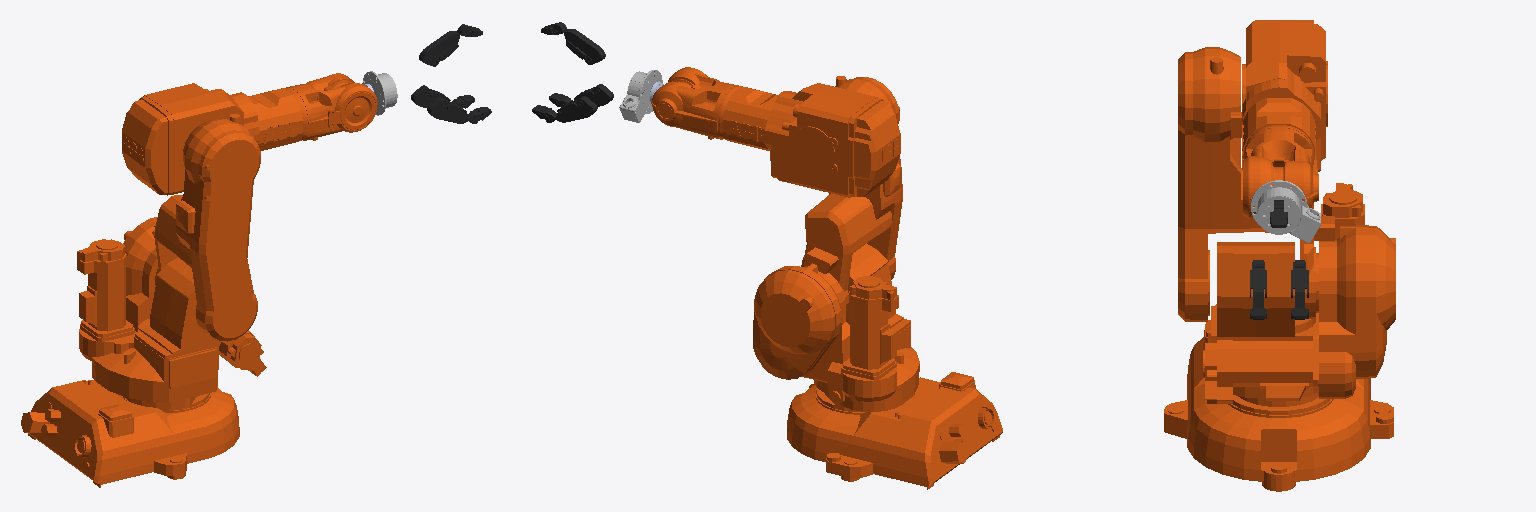
--- Render facts (derived) ---
3 views of the same robot in one strip: view 1: azimuth 30°, elevation 25°; view 2: azimuth 150°, elevation 25°; view 3: azimuth 270°, elevation 25° (orthographic).
Model IRB140 with 21 links and 20 joints (15 revolute, 5 fixed), rooted at base_link, posed every joint at zero.
Links seen in each view (by area): view 1: link_1, link_2, base_link, link_3, link_4, ATI_sensor, finger_middle_link_1, finger_2_link_1; view 2: link_1, base_link, link_3, link_2, link_4, ATI_sensor, finger_middle_link_1, finger_1_link_1; view 3: link_1, base_link, link_2, link_3, link_4, ATI_sensor, finger_1_link_1, finger_2_link_1.
Link boxes in pixels (box(x1,y1,x2,y2)): link_1: box(77, 217, 266, 410); link_2: box(152, 114, 260, 341); base_link: box(21, 380, 239, 487); link_3: box(122, 83, 302, 195); link_4: box(285, 73, 377, 140); ATI_sensor: box(362, 71, 397, 115); finger_middle_link_1: box(419, 31, 460, 66); finger_2_link_1: box(427, 97, 468, 123); link_1: box(753, 243, 919, 411); base_link: box(787, 372, 1002, 489); link_3: box(723, 83, 900, 197); link_2: box(801, 76, 902, 309); link_4: box(651, 67, 741, 139); ATI_sensor: box(619, 70, 662, 122); finger_middle_link_1: box(564, 29, 605, 64); finger_1_link_1: box(555, 96, 597, 122); link_1: box(1203, 183, 1395, 414); base_link: box(1164, 320, 1393, 491); link_2: box(1178, 47, 1334, 321); link_3: box(1231, 20, 1327, 171); link_4: box(1242, 125, 1318, 218); ATI_sensor: box(1251, 180, 1321, 242); finger_1_link_1: box(1291, 260, 1308, 307); finger_2_link_1: box(1250, 260, 1266, 307).
Size in the robot's own frame: 1.11 by 0.4054 by 0.8227 metres.
14 mesh visuals loaded from 13 distinct referenced files (10 binary STL); not drawn: 7 (reference not matched to a file when rendering).

robot.urdf — IRB140:
<?xml version="1.0" ?>
<!-- =================================================================================== -->
<!-- |    This document was autogenerated by xacro from irb_140_robotiq_simple_ati.xacro | -->
<!-- |    EDITING THIS FILE BY HAND IS NOT RECOMMENDED                                 | -->
<!-- =================================================================================== -->
<robot name="IRB140" xmlns:xacro="http://ros.org/wiki/xacro">
  <link name="finger_1_link_0">
    <visual>
      <origin rpy="0 0 0" xyz="0.020 0 0"/>
      <geometry>
        <mesh filename="package://Atlas/urdf/meshes/s-model_articulated/visual/link_0.STL"/>
      </geometry>
      <material name="black">
        <color rgba=".2 .2 .2 1"/>
      </material>
    </visual>
    <inertial>
      <origin rpy="0 0 0" xyz="0 0 0"/>
      <mass value="0.05"/>
      <inertia ixx="0.01" ixy="-0.00002" ixz="0.00001" iyy="0.0008" iyz="0" izz="0.001"/>
    </inertial>
  </link>
  <link name="finger_1_link_1">
    <visual>
      <origin rpy="0 0 -0.52" xyz="0.050 -.028 0"/>
      <geometry>
        <mesh filename="package://Atlas/urdf/meshes/s-model_articulated/visual/link_1.STL"/>
      </geometry>
      <material name="black"/>
    </visual>
    <collision>
      <origin rpy="0 0 -0.52" xyz="0.03 -0.0145 0"/>
      <geometry>
        <box size=".028 .01 .03"/>
      </geometry>
      <material name="yellow">
        <color rgba="0 1 1 1"/>
      </material>
    </collision>
    <inertial>
      <origin rpy="0 0 0" xyz="0 0 0"/>
      <mass value="0.15"/>
      <inertia ixx="0.001859" ixy="-0.000376" ixz="0.000028" iyy="0.012756" iyz="0" izz="0.0024"/>
    </inertial>
  </link>
  <link name="finger_1_link_2">
    <!--
			NOTE: This link has an offset in the z-direction based on the models that were
			used to generate grap-it poses.  With the offset below the model appears visually
			correct, but it is suspect.
			-->
    <visual>
      <origin rpy="0 0 0" xyz="0.039 0 0.0075"/>
      <geometry>
        <mesh filename="package://Atlas/urdf/meshes/s-model_articulated/visual/link_2.STL"/>
      </geometry>
      <material name="black"/>
    </visual>
    <collision>
      <origin rpy="0 0 0" xyz="0.02 0.0025 -0.0005"/>
      <geometry>
        <box size=".018 .01 .03"/>
      </geometry>
      <material name="yellow"/>
    </collision>
    <inertial>
      <origin rpy="0 0 0" xyz="0 0 0"/>
      <mass value="0.15"/>
      <inertia ixx="0.001859" ixy="-0.000376" ixz="0.000028" iyy="0.012756" iyz="0" izz="0.0024"/>
    </inertial>
  </link>
  <link name="finger_1_link_3">
    <visual>
      <origin rpy="0 0 0.52" xyz="0 0 0"/>
      <geometry>
        <mesh filename="package://Atlas/urdf/meshes/s-model_articulated/visual/link_3.STL"/>
      </geometry>
      <material name="black"/>
    </visual>
    <collision>
      <origin rpy="0 0 .52" xyz="0.02 0.015 0"/>
      <geometry>
        <box size=".025 .01 .03"/>
      </geometry>
      <material name="yellow"/>
    </collision>
    <inertial>
      <origin rpy="0 0 0" xyz="0 0 0"/>
      <mass value="0.05"/>
      <inertia ixx="0.001239" ixy="-0.000251" ixz="0.000019" iyy="0.00085" iyz="0" izz="0.001632"/>
    </inertial>
  </link>
  <joint name="finger_1_joint_0" type="revolute">
    <parent link="finger_1_link_0"/>
    <child link="finger_1_link_1"/>
    <axis xyz="0 0 1"/>
    <origin rpy="0 0 0" xyz="0.020 0 0"/>
    <limit effort="100" lower="0" upper="1.055" velocity="100"/>
  </joint>
  <joint name="finger_1_joint_1" type="revolute">
    <parent link="finger_1_link_1"/>
    <child link="finger_1_link_2"/>
    <axis xyz="0 0 1"/>
    <origin rpy="0 0 -0.52" xyz="0.050 -.028 0"/>
    <limit effort="100" lower="0" upper="1.5708" velocity="100"/>
  </joint>
  <joint name="finger_1_joint_2" type="revolute">
    <parent link="finger_1_link_2"/>
    <child link="finger_1_link_3"/>
    <axis xyz="0 0 1"/>
    <origin rpy="0 0 0" xyz="0.039 0 0"/>
    <limit effort="100" lower="-0.7854" upper="3.1416" velocity="100"/>
  </joint>
  <link name="finger_2_link_0">
    <visual>
      <origin rpy="0 0 0" xyz="0.020 0 0"/>
      <geometry>
        <mesh filename="package://Atlas/urdf/meshes/s-model_articulated/visual/link_0.STL"/>
      </geometry>
      <material name="black">
        <color rgba=".2 .2 .2 1"/>
      </material>
    </visual>
    <!--<collision>	
				<origin xyz="-0.0455 0.0414 0.036" rpy="0 3.1416 -1.57"/>
				<geometry>
					<mesh filename="package://Atlas/urdf/meshes/s-model_articulated/collision/link_0.STL" />
				</geometry>
				<material name="yellow">
					<color rgba="0 1 1 1"/>
				</material>
			</collision>-->
    <inertial>
      <origin rpy="0 0 0" xyz="0 0 0"/>
      <mass value="0.05"/>
      <inertia ixx="0.01" ixy="-0.00002" ixz="0.00001" iyy="0.0008" iyz="0" izz="0.001"/>
    </inertial>
  </link>
  <link name="finger_2_link_1">
    <visual>
      <origin rpy="0 0 -0.52" xyz="0.050 -.028 0"/>
      <geometry>
        <mesh filename="package://Atlas/urdf/meshes/s-model_articulated/visual/link_1.STL"/>
      </geometry>
      <material name="black"/>
    </visual>
    <collision>
      <origin rpy="0 0 -0.52" xyz="0.03 -0.0145 0"/>
      <geometry>
        <box size=".028 .01 .03"/>
      </geometry>
      <material name="yellow"/>
    </collision>
    <inertial>
      <origin rpy="0 0 0" xyz="0 0 0"/>
      <mass value="0.15"/>
      <inertia ixx="0.001859" ixy="-0.000376" ixz="0.000028" iyy="0.012756" iyz="0" izz="0.0024"/>
    </inertial>
  </link>
  <link name="finger_2_link_2">
    <!--
			NOTE: This link has an offset in the z-direction based on the models that were
			used to generate grap-it poses.  With the offset below the model appears visually
			correct, but it is suspect.
			-->
    <visual>
      <origin rpy="0 0 0" xyz="0.039 0 0.0075"/>
      <geometry>
        <mesh filename="package://Atlas/urdf/meshes/s-model_articulated/visual/link_2.STL"/>
      </geometry>
      <material name="black"/>
    </visual>
    <collision>
      <origin rpy="0 0 0" xyz="0.02 0.0025 -0.0005"/>
      <geometry>
        <box size=".018 .01 .03"/>
      </geometry>
      <material name="yellow"/>
    </collision>
    <inertial>
      <origin rpy="0 0 0" xyz="0 0 0"/>
      <mass value="0.15"/>
      <inertia ixx="0.001859" ixy="-0.000376" ixz="0.000028" iyy="0.012756" iyz="0" izz="0.0024"/>
    </inertial>
  </link>
  <link name="finger_2_link_3">
    <visual>
      <origin rpy="0 0 0.52" xyz="0 0 0"/>
      <geometry>
        <mesh filename="package://Atlas/urdf/meshes/s-model_articulated/visual/link_3.STL"/>
      </geometry>
      <material name="black"/>
    </visual>
    <collision>
      <origin rpy="0 0 .52" xyz="0.02 0.015 0"/>
      <geometry>
        <box size=".025 .01 .03"/>
      </geometry>
      <material name="yellow"/>
    </collision>
    <inertial>
      <origin rpy="0 0 0" xyz="0 0 0"/>
      <mass value="0.05"/>
      <inertia ixx="0.001239" ixy="-0.000251" ixz="0.000019" iyy="0.00085" iyz="0" izz="0.001632"/>
    </inertial>
  </link>
  <joint name="finger_2_joint_0" type="revolute">
    <parent link="finger_2_link_0"/>
    <child link="finger_2_link_1"/>
    <axis xyz="0 0 1"/>
    <origin rpy="0 0 0" xyz="0.020 0 0"/>
    <limit effort="100" lower="0" upper="1.055" velocity="100"/>
  </joint>
  <joint name="finger_2_joint_1" type="revolute">
    <parent link="finger_2_link_1"/>
    <child link="finger_2_link_2"/>
    <axis xyz="0 0 1"/>
    <origin rpy="0 0 -0.52" xyz="0.050 -.028 0"/>
    <limit effort="100" lower="0" upper="1.5708" velocity="100"/>
  </joint>
  <joint name="finger_2_joint_2" type="revolute">
    <parent link="finger_2_link_2"/>
    <child link="finger_2_link_3"/>
    <axis xyz="0 0 1"/>
    <origin rpy="0 0 0" xyz="0.039 0 0"/>
    <limit effort="100" lower="-0.7854" upper="3.1416" velocity="100"/>
  </joint>
  <link name="finger_middle_link_0">
    <visual>
      <origin rpy="0 0 0" xyz="0.020 0 0"/>
      <geometry>
        <mesh filename="package://Atlas/urdf/meshes/s-model_articulated/visual/link_0.STL"/>
      </geometry>
      <material name="black">
        <color rgba=".2 .2 .2 1"/>
      </material>
    </visual>
    <!--<collision>	
				<origin xyz="-0.0455 0.0414 0.036" rpy="0 3.1416 -1.57"/>
				<geometry>
					<mesh filename="package://Atlas/urdf/meshes/s-model_articulated/collision/link_0.STL" />
				</geometry>
				<material name="yellow">
					<color rgba="0 1 1 1"/>
				</material>
			</collision>-->
    <inertial>
      <origin rpy="0 0 0" xyz="0 0 0"/>
      <mass value="0.05"/>
      <inertia ixx="0.01" ixy="-0.00002" ixz="0.00001" iyy="0.0008" iyz="0" izz="0.001"/>
    </inertial>
  </link>
  <link name="finger_middle_link_1">
    <visual>
      <origin rpy="0 0 -0.52" xyz="0.050 -.028 0"/>
      <geometry>
        <mesh filename="package://Atlas/urdf/meshes/s-model_articulated/visual/link_1.STL"/>
      </geometry>
      <material name="black"/>
    </visual>
    <collision>
      <origin rpy="0 0 -0.52" xyz="0.03 -0.0145 0"/>
      <geometry>
        <box size=".028 .01 .03"/>
      </geometry>
      <material name="yellow"/>
    </collision>
    <inertial>
      <origin rpy="0 0 0" xyz="0 0 0"/>
      <mass value="0.15"/>
      <inertia ixx="0.001859" ixy="-0.000376" ixz="0.000028" iyy="0.012756" iyz="0" izz="0.0024"/>
    </inertial>
  </link>
  <link name="finger_middle_link_2">
    <!--
			NOTE: This link has an offset in the z-direction based on the models that were
			used to generate grap-it poses.  With the offset below the model appears visually
			correct, but it is suspect.
			-->
    <visual>
      <origin rpy="0 0 0" xyz="0.039 0 0.0075"/>
      <geometry>
        <mesh filename="package://Atlas/urdf/meshes/s-model_articulated/visual/link_2.STL"/>
      </geometry>
      <material name="black"/>
    </visual>
    <collision>
      <origin rpy="0 0 0" xyz="0.02 0.0025 -0.0005"/>
      <geometry>
        <box size=".018 .01 .03"/>
      </geometry>
      <material name="yellow"/>
    </collision>
    <inertial>
      <origin rpy="0 0 0" xyz="0 0 0"/>
      <mass value="0.15"/>
      <inertia ixx="0.001859" ixy="-0.000376" ixz="0.000028" iyy="0.012756" iyz="0" izz="0.0024"/>
    </inertial>
  </link>
  <link name="finger_middle_link_3">
    <visual>
      <origin rpy="0 0 0.52" xyz="0 0 0"/>
      <geometry>
        <mesh filename="package://Atlas/urdf/meshes/s-model_articulated/visual/link_3.STL"/>
      </geometry>
      <material name="black"/>
    </visual>
    <collision>
      <origin rpy="0 0 .52" xyz="0.02 0.015 0"/>
      <geometry>
        <box size=".025 .01 .03"/>
      </geometry>
      <material name="yellow"/>
    </collision>
    <inertial>
      <origin rpy="0 0 0" xyz="0 0 0"/>
      <mass value="0.05"/>
      <inertia ixx="0.001239" ixy="-0.000251" ixz="0.000019" iyy="0.00085" iyz="0" izz="0.001632"/>
    </inertial>
  </link>
  <joint name="finger_middle_joint_0" type="revolute">
    <parent link="finger_middle_link_0"/>
    <child link="finger_middle_link_1"/>
    <axis xyz="0 0 1"/>
    <origin rpy="0 0 0" xyz="0.020 0 0"/>
    <limit effort="100" lower="0" upper="1.055" velocity="100"/>
  </joint>
  <joint name="finger_middle_joint_1" type="revolute">
    <parent link="finger_middle_link_1"/>
    <child link="finger_middle_link_2"/>
    <axis xyz="0 0 1"/>
    <origin rpy="0 0 -0.52" xyz="0.050 -.028 0"/>
    <limit effort="100" lower="0" upper="1.5708" velocity="100"/>
  </joint>
  <joint name="finger_middle_joint_2" type="revolute">
    <parent link="finger_middle_link_2"/>
    <child link="finger_middle_link_3"/>
    <axis xyz="0 0 1"/>
    <origin rpy="0 0 0" xyz="0.039 0 0"/>
    <limit effort="100" lower="-0.7854" upper="3.1416" velocity="100"/>
  </joint>
  <link name="palm">
    <visual>
      <geometry>
        <mesh filename="package://Atlas/urdf/meshes/s-model_articulated/visual/palm.STL"/>
      </geometry>
      <material name="black">
        <color rgba=".2 .2 .2 1"/>
      </material>
    </visual>
    <collision>
      <origin rpy="0 0 0" xyz="0 .046 0"/>
      <geometry>
        <box size=".1 .01 .1"/>
      </geometry>
      <material name="yellow">
        <color rgba="0 1 1 1"/>
      </material>
    </collision>
  </link>
  <inertial>
    <origin rpy="0 0 0" xyz="0 0 0"/>
    <mass value="1.3"/>
    <inertia ixx="0.006012" ixy="0.000079" ixz="-0.00024" iyy="0.012892" iyz="0" izz="0.002435"/>
  </inertial>
  <joint name="palm_finger_1_joint" type="fixed">
    <parent link="palm"/>
    <child link="finger_1_link_0"/>
    <axis xyz="0 1 0"/>
    <origin rpy="0 3.1416 -1.57" xyz="-0.0455 0.0214 0.036"/>
  </joint>
  <joint name="palm_finger_2_joint" type="fixed">
    <parent link="palm"/>
    <child link="finger_2_link_0"/>
    <axis xyz="0 1 0"/>
    <origin rpy="0 3.1416 -1.57" xyz="-0.0455 0.0214 -0.036"/>
  </joint>
  <joint name="palm_finger_middle_joint" type="fixed">
    <parent link="palm"/>
    <child link="finger_middle_link_0"/>
    <axis xyz="0 0 1"/>
    <origin rpy="0 0 1.57" xyz="0.0455 0.0214 0"/>
  </joint>
  <transmission name="finger_middle_joint_0" type="SimpleTransmission">
    <actuator name="finger_middle_joint_0"/>
    <joint name="finger_middle_joint_0"/>
  </transmission>
  <transmission name="finger_middle_joint_1" type="SimpleTransmission">
    <actuator name="finger_middle_joint_1"/>
    <joint name="finger_middle_joint_1"/>
  </transmission>
  <transmission name="finger_middle_joint_2" type="SimpleTransmission">
    <actuator name="finger_middle_joint_2"/>
    <joint name="finger_middle_joint_2"/>
  </transmission>
  <transmission name="finger_1_joint_0" type="SimpleTransmission">
    <actuator name="finger_1_joint_0"/>
    <joint name="finger_1_joint_0"/>
  </transmission>
  <transmission name="finger_1_joint_1" type="SimpleTransmission">
    <actuator name="finger_1_joint_1"/>
    <joint name="finger_1_joint_1"/>
  </transmission>
  <transmission name="finger_1_joint_2" type="SimpleTransmission">
    <actuator name="finger_1_joint_2"/>
    <joint name="finger_1_joint_2"/>
  </transmission>
  <transmission name="finger_2_joint_0" type="SimpleTransmission">
    <actuator name="finger_2_joint_0"/>
    <joint name="finger_2_joint_0"/>
  </transmission>
  <transmission name="finger_2_joint_1" type="SimpleTransmission">
    <actuator name="finger_2_joint_1"/>
    <joint name="finger_2_joint_1"/>
  </transmission>
  <transmission name="finger_2_joint_2" type="SimpleTransmission">
    <actuator name="finger_2_joint_2"/>
    <joint name="finger_2_joint_2"/>
  </transmission>
  <link name="base_link">
    <inertial>
      <origin rpy="-1.57079 0 0" xyz="-0.0820393251688425 -0.0599247343482246 0.000402028640224033"/>
      <mass value="12.409016159487"/>
      <inertia ixx="0.104502176006253" ixy="0.00734284655670482" ixz="1.00520827530156E-05" iyy="0.246486764065977" iyz="0.000843006810157312" izz="0.16727784258504"/>
    </inertial>
    <visual>
      <origin rpy="-1.57079 0 0" xyz="0 0 0"/>
      <geometry>
        <mesh filename="package://IRB140/urdf/meshes/base_link.stl"/>
      </geometry>
      <material name="">
        <color rgba="0.890196078431373 0.411764705882353 0.125490196078431 1"/>
      </material>
    </visual>
    <collision>
      <origin rpy="-1.57079 0 0" xyz="0 0 0"/>
      <geometry>
        <mesh filename="package://IRB140/urdf/meshes/base_link.stl"/>
      </geometry>
    </collision>
  </link>
  <collision_filter_group name="base">
    <member link="base_link"/>
  </collision_filter_group>
  <collision_filter_group name="ignore_base">
    <member link="link_1"/>
  </collision_filter_group>
  <link name="link_1">
    <inertial>
      <origin rpy="0 0 0" xyz="0.0281052735195531 -0.263404021764231 0.0438145912936454"/>
      <mass value="16.287755696602"/>
      <inertia ixx="0.239763088891016" ixy="-0.0247090810274521" ixz="0.000698689923332581" iyy="0.215279593840589" iyz="-0.0324602456686847" izz="0.21738294278782"/>
    </inertial>
    <visual>
      <origin rpy="0 0 0" xyz="0 0.1095 0"/>
      <geometry>
        <mesh filename="package://IRB140/urdf/meshes/link1.stl"/>
      </geometry>
      <material name="">
        <color rgba="0.890196078431373 0.411764705882353 0.125490196078431 1"/>
      </material>
    </visual>
    <collision>
      <origin rpy="0 0 0" xyz="0 0.1095 0"/>
      <geometry>
        <mesh filename="package://IRB140/urdf/meshes/link1.stl"/>
      </geometry>
    </collision>
  </link>
  <link name="link_2">
    <inertial>
      <origin rpy="0 0 0" xyz="0.0602722328661623 -0.550288012476887 -0.0924337165442594"/>
      <mass value="7.58037424484438"/>
      <inertia ixx="0.155736578403723" ixy="-0.0018292494088038" ixz="-0.000516100043145016" iyy="0.0449374006069967" iyz="0.0179772597993246" izz="0.131499062854069"/>
    </inertial>
    <visual>
      <origin rpy="0 0 0" xyz="-0.07 0.352 0"/>
      <geometry>
        <mesh filename="package://IRB140/urdf/meshes/link2.stl"/>
      </geometry>
      <material name="">
        <color rgba="0.890196078431373 0.411764705882353 0.125490196078431 1"/>
      </material>
    </visual>
    <collision>
      <origin rpy="0 0 0" xyz="-0.07 0.352 0"/>
      <geometry>
        <mesh filename="package://IRB140/urdf/meshes/link2.stl"/>
      </geometry>
    </collision>
  </link>
  <link name="link_3">
    <inertial>
      <origin rpy="0 0 0" xyz="0.0895840773879386 -0.706321963929838 0.00750781548417993"/>
      <mass value="8.03072730997701"/>
      <inertia ixx="0.0322819185861096" ixy="0.00189304098071818" ixz="-0.00301812650515099" iyy="0.0862439596837411" iyz="0.000363121583074651" izz="0.0941344479457789"/>
    </inertial>
    <visual>
      <origin rpy="0 0 0" xyz="-0.07 0.712 0"/>
      <geometry>
        <mesh filename="package://IRB140/urdf/meshes/link3.stl"/>
      </geometry>
      <material name="">
        <color rgba="0.890196078431373 0.411764705882353 0.125490196078431 1"/>
      </material>
    </visual>
    <collision>
      <origin rpy="0 0 0" xyz="-0.07  0.712 0"/>
      <geometry>
        <mesh filename="package://IRB140/urdf/meshes/link3.stl"/>
      </geometry>
    </collision>
  </link>
  <link name="link_4">
    <inertial>
      <origin rpy="0 0 0" xyz="0.381567778909365 -0.710566670346653 -0.0012125731023236"/>
      <mass value="1.7702548022269"/>
      <inertia ixx="0.00345886724545012" ixy="-5.89845314013543E-05" ixz="-0.000204665310780048" iyy="0.00814796317500158" iyz="3.05102860299544E-06" izz="0.00727417938725734"/>
    </inertial>
    <visual>
      <origin rpy="0 0 0" xyz="-0.2885 0.712 0"/>
      <geometry>
        <mesh filename="package://IRB140/urdf/meshes/link4.stl"/>
      </geometry>
      <material name="">
        <color rgba="0.890196078431373 0.411764705882353 0.125490196078431 1"/>
      </material>
    </visual>
    <collision>
      <origin rpy="0 0 0" xyz="-0.2885 0.712 0"/>
      <geometry>
        <mesh filename="package://IRB140/urdf/meshes/link4.stl"/>
      </geometry>
    </collision>
  </link>
  <link name="link_5">
    <inertial>
      <origin rpy="0 0 0" xyz="0.4486171436144 -0.711838316531129 0.000617034654940496"/>
      <mass value="0.145550520315438"/>
      <inertia ixx="7.1482542749252E-05" ixy="4.08865519403599E-07" ixz="1.24002244883737E-07" iyy="6.88353185385481E-05" iyz="-1.00702333671187E-08" izz="0.000112132445217078"/>
    </inertial>
    <visual>
      <origin rpy="0 0 0" xyz="-0.450 0.712 0"/>
      <geometry>
        <mesh filename="package://IRB140/urdf/meshes/link5.stl"/>
      </geometry>
      <material name="">
        <color rgba="0.890196078431373 0.411764705882353 0.125490196078431 1"/>
      </material>
    </visual>
    <collision>
      <origin rpy="0 0 0" xyz="-0.450 0.712 0"/>
      <geometry>
        <mesh filename="package://IRB140/urdf/meshes/link5.stl"/>
      </geometry>
    </collision>
  </link>
  <link name="link_6">
    <inertial>
      <origin rpy="0 0 0" xyz="0.502059432845099 -0.711774967143511 2.38785136319277E-10"/>
      <mass value="0.0258654328719498"/>
      <inertia ixx="5.9822143548355E-06" ixy="4.58244484401765E-08" ixz="-3.33091906738059E-13" iyy="6.2921914507958E-06" iyz="6.75626369217644E-13" izz="6.17479327327778E-06"/>
    </inertial>
    <visual>
      <origin rpy="0 0 0" xyz="-0.515 0.712 0"/>
      <geometry>
        <mesh filename="package://IRB140/urdf/meshes/link6.stl"/>
      </geometry>
      <material name="">
        <color rgba="0.796078431372549 0.823529411764706 0.937254901960784 1"/>
      </material>
    </visual>
    <collision>
      <origin rpy="0 0 0" xyz="-0.515 0.712 0"/>
      <geometry>
        <mesh filename="package://IRB140/urdf/meshes/link6.stl"/>
      </geometry>
    </collision>
  </link>
  <joint name="joint1" type="revolute">
    <parent link="base_link"/>
    <child link="link_1"/>
    <limit effort="300" lower="-3.14159265359" upper="3.14159265359" velocity="4.36"/>
    <axis xyz="0 -1 0"/>
    <origin rpy="-1.57079 0 0" xyz="0 0 0.1095"/>
  </joint>
  <joint name="joint2" type="revolute">
    <parent link="link_1"/>
    <child link="link_2"/>
    <limit effort="300" lower="-1.57079633" upper="1.91986218" velocity="4.36"/>
    <axis xyz="0 0 1"/>
    <origin rpy="0 0 0" xyz="0.07 -0.2425 0"/>
  </joint>
  <joint name="joint3" type="revolute">
    <parent link="link_2"/>
    <child link="link_3"/>
    <limit effort="300" lower="-4.01425728" upper="0.87266463" velocity="4.36"/>
    <axis xyz="0 0 1"/>
    <origin rpy="0 0 0" xyz="0 -0.360 0"/>
  </joint>
  <joint name="joint4" type="revolute">
    <parent link="link_3"/>
    <child link="link_4"/>
    <limit effort="300" lower="-3.49065850" upper="3.49065850" velocity="5.58"/>
    <axis xyz="1 0 0"/>
    <origin rpy="0 0 0" xyz="0.2185 0 0"/>
  </joint>
  <joint name="joint5" type="revolute">
    <parent link="link_4"/>
    <child link="link_5"/>
    <limit effort="300" lower="-2.09439510" upper="2.09439510" velocity="5.58"/>
    <axis xyz="0 0 -1"/>
    <origin rpy="0 0 0" xyz="0.1615 0 0"/>
  </joint>
  <joint name="joint6" type="revolute">
    <parent link="link_5"/>
    <child link="link_6"/>
    <limit effort="300" lower="-6.98131701" upper="6.98131701" velocity="7.33"/>
    <axis xyz="1 0 0"/>
    <origin rpy="0 0 0" xyz="0.065 0 0"/>
  </joint>
  <transmission name="joint1_trans" type="SimpleTransmission">
    <joint name="joint1"/>
    <actuator name="joint1_motor"/>
    <mechanicalReduction>1</mechanicalReduction>
  </transmission>
  <transmission name="joint2_trans" type="SimpleTransmission">
    <joint name="joint2"/>
    <actuator name="joint2_motor"/>
    <mechanicalReduction>1</mechanicalReduction>
  </transmission>
  <transmission name="joint3_trans" type="SimpleTransmission">
    <joint name="joint3"/>
    <actuator name="joint3_motor"/>
    <mechanicalReduction>1</mechanicalReduction>
  </transmission>
  <transmission name="joint4_trans" type="SimpleTransmission">
    <joint name="joint4"/>
    <actuator name="joint4_motor"/>
    <mechanicalReduction>1</mechanicalReduction>
  </transmission>
  <transmission name="joint5_trans" type="SimpleTransmission">
    <joint name="joint5"/>
    <actuator name="joint5_motor"/>
    <mechanicalReduction>1</mechanicalReduction>
  </transmission>
  <transmission name="joint6_trans" type="SimpleTransmission">
    <joint name="joint6"/>
    <actuator name="joint6_motor"/>
    <mechanicalReduction>1</mechanicalReduction>
  </transmission>
  <link name="ATI_sensor">
    <inertial>
      <origin rpy="0 0 0" xyz="-0.0064062 0.01873 0.011887"/>
      <mass value="0.68252"/>
      <inertia ixx="0.000615295062479599" ixy="-0.000155498855912512" ixz="4.23692762827157E-06" iyy="8.42227283334224E-06" iyz="-0.000848389613222753" izz="-8.42227283334216E-06"/>
    </inertial>
    <visual>
      <origin rpy="1.5707963267949 0 0" xyz="0 0 0"/>
      <geometry>
        <mesh filename="package://IRB140/urdf/meshes/ATI_sensor.stl"/>
      </geometry>
      <material name="">
        <color rgba="0.75294 0.75294 0.75294 1"/>
      </material>
    </visual>
    <collision>
      <origin rpy="1.5707963267949 0 0" xyz="0 0 0"/>
      <geometry>
        <mesh filename="package://IRB140/urdf/meshes/ATI_sensor.stl"/>
      </geometry>
    </collision>
  </link>
  <joint name="robotiq_hand_joint" type="fixed">
    <origin rpy="0.0 0.0 -1.57079" xyz="0.11904 0 0"/>
    <parent link="link_6"/>
    <child link="palm"/>
  </joint>
  <joint name="ati_joint" type="fixed">
    <origin rpy="0.0 0.0 -1.57079" xyz="0.00953 0 0"/>
    <parent link="link_6"/>
    <child link="ATI_sensor"/>
  </joint>
</robot>
